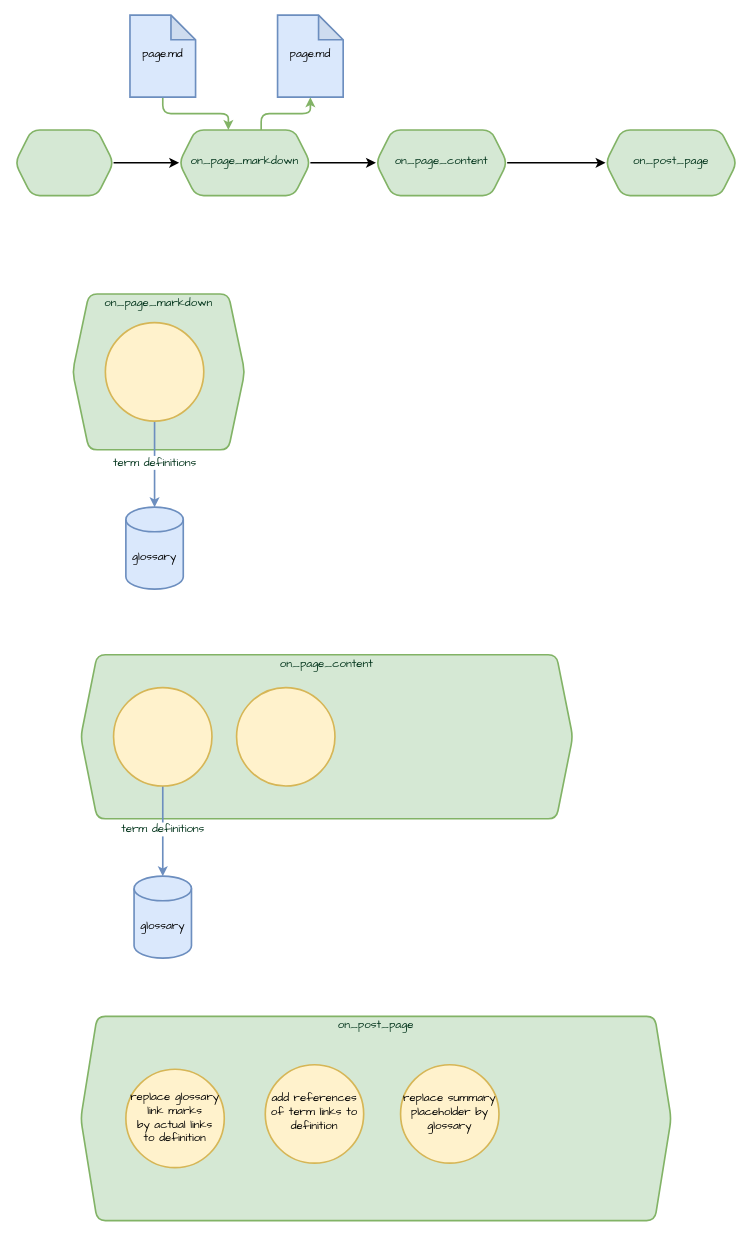
Image size: 751x1235. Some labels were removed from this diagram. The centre of each missing label's shape, as x and y in pixels:
mark glossary links for later linking to definitions: point 285,736
on_pre_build: point 64,162
register term definitions from page content: point 162,736
register term definitions from page meta: point 154,371
